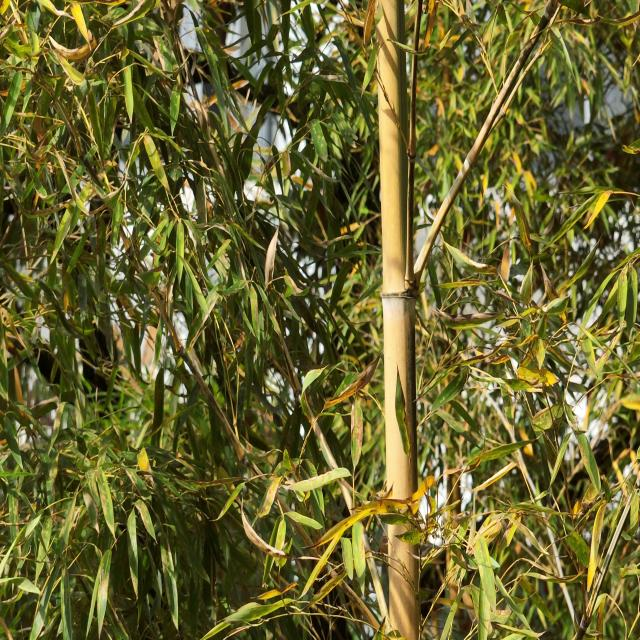Bamboo-shoots: (374, 0, 423, 640)
